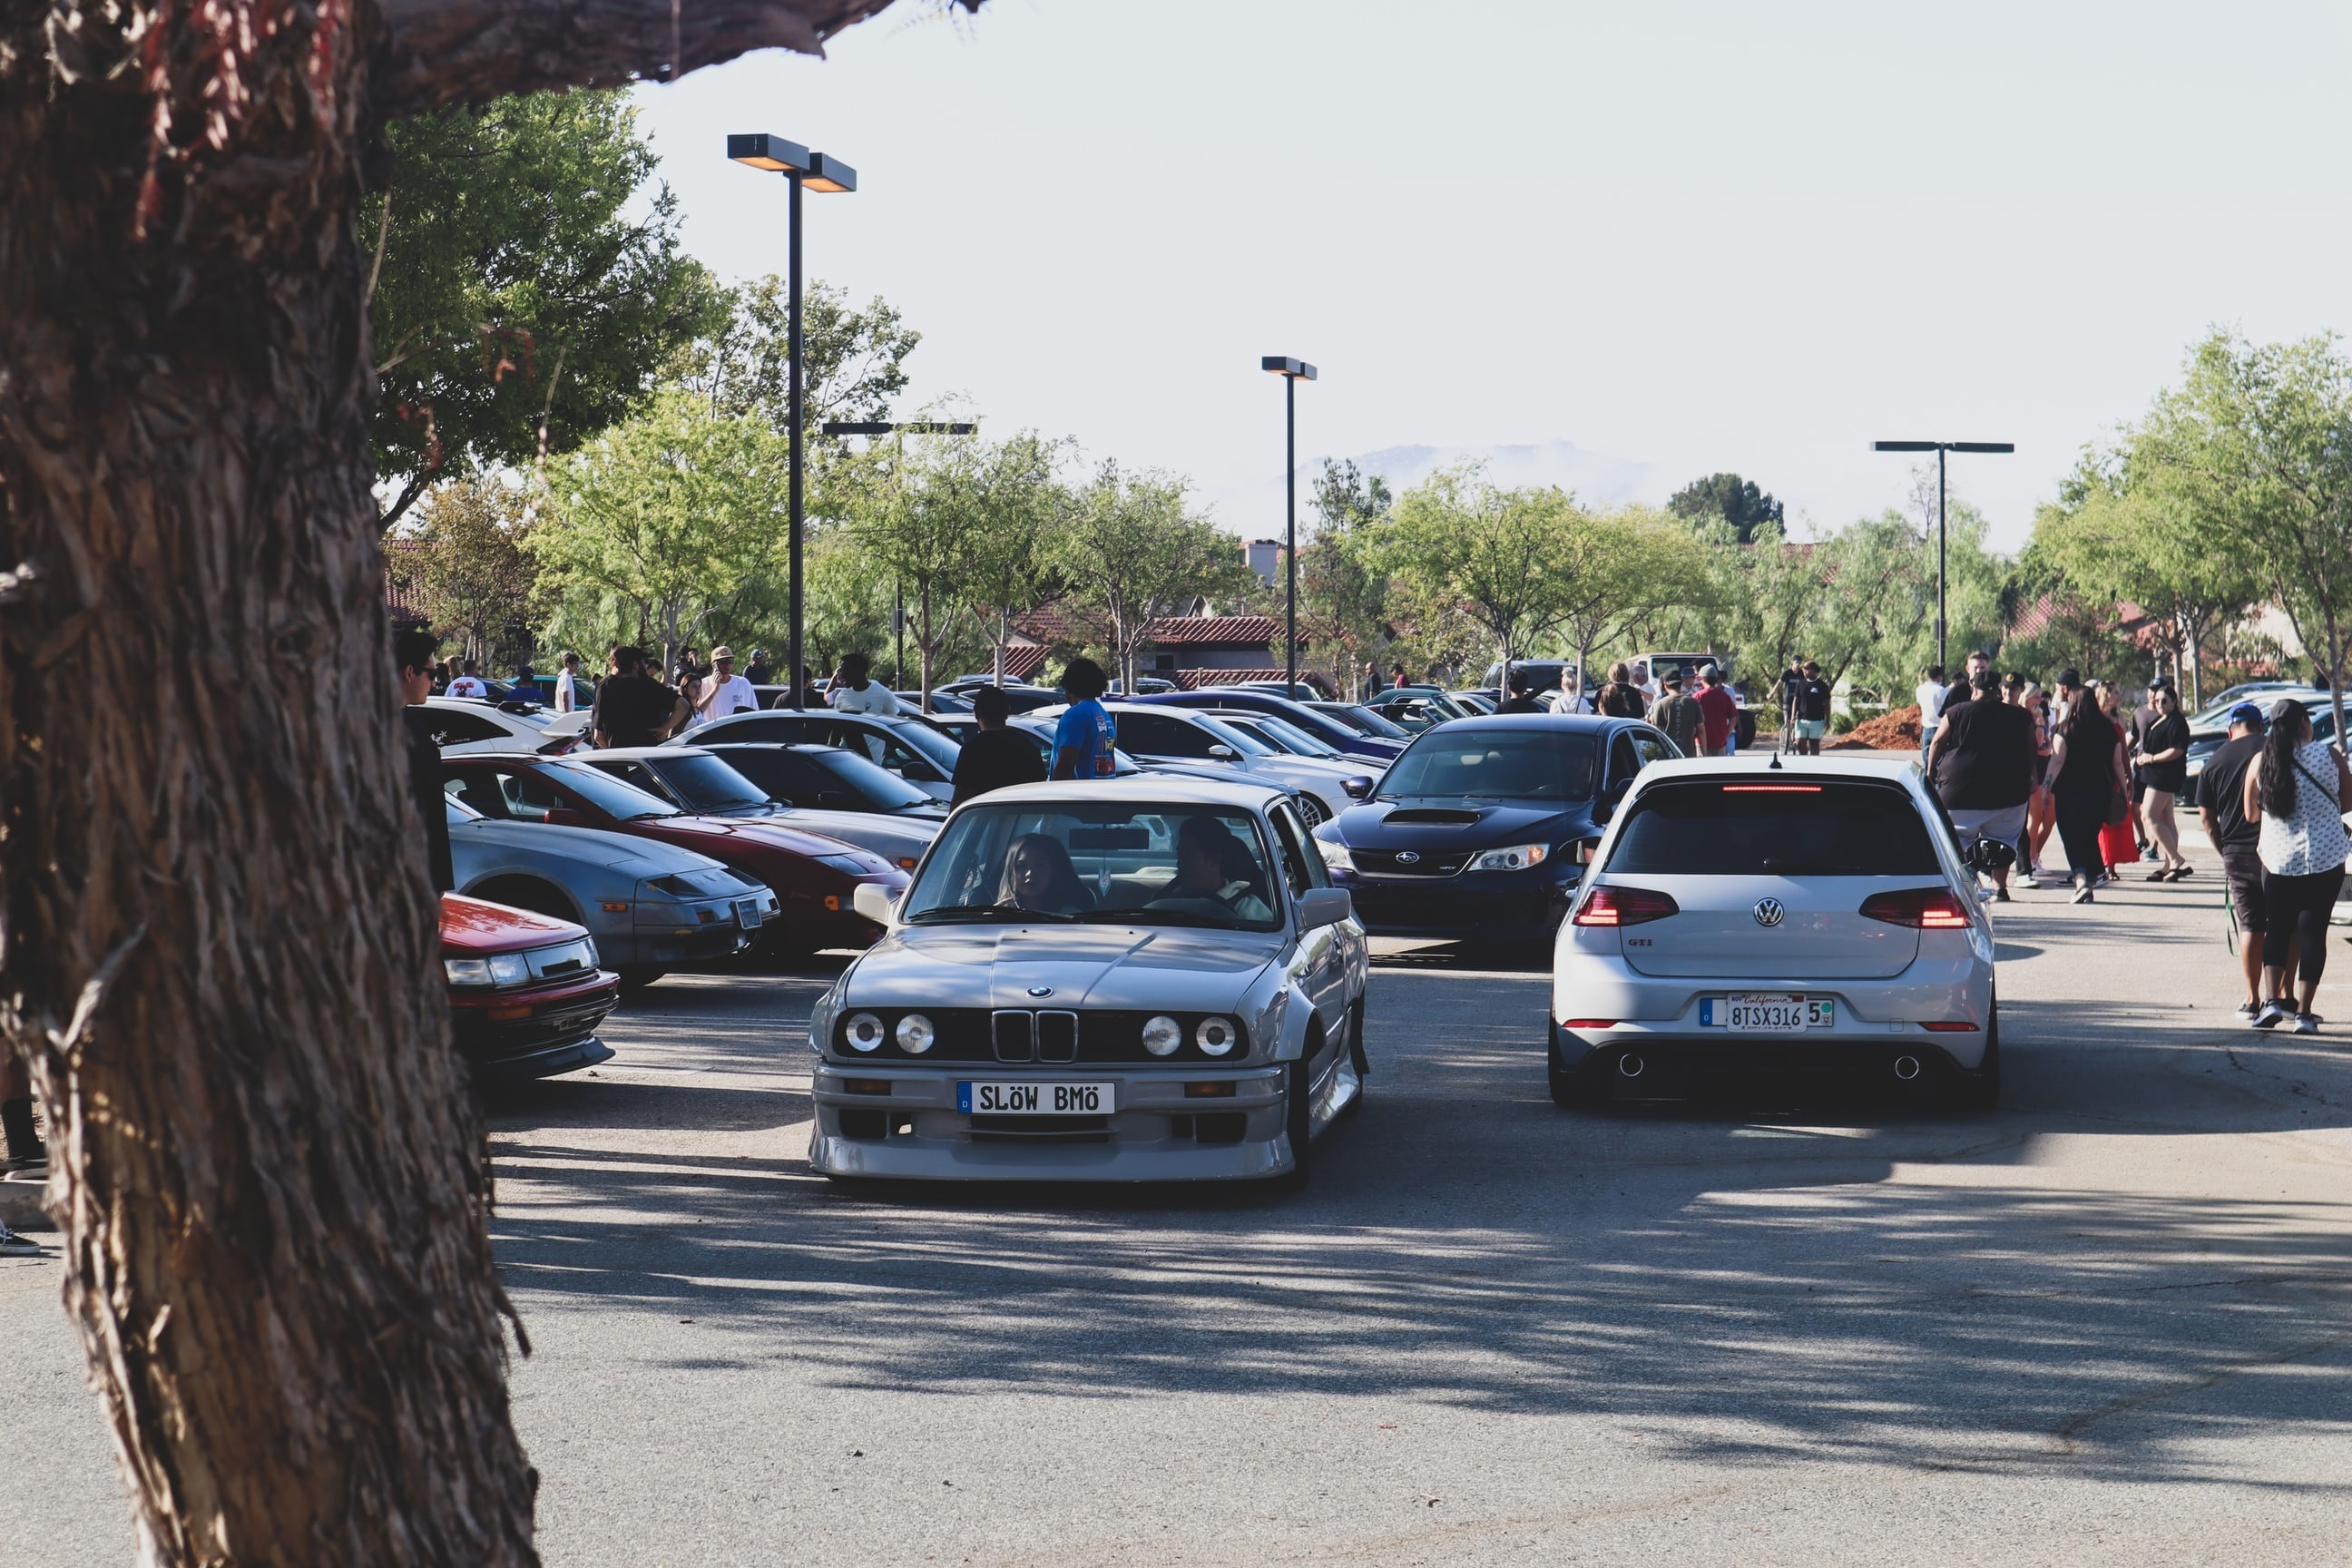plaka: (955, 1078, 1116, 1115)
